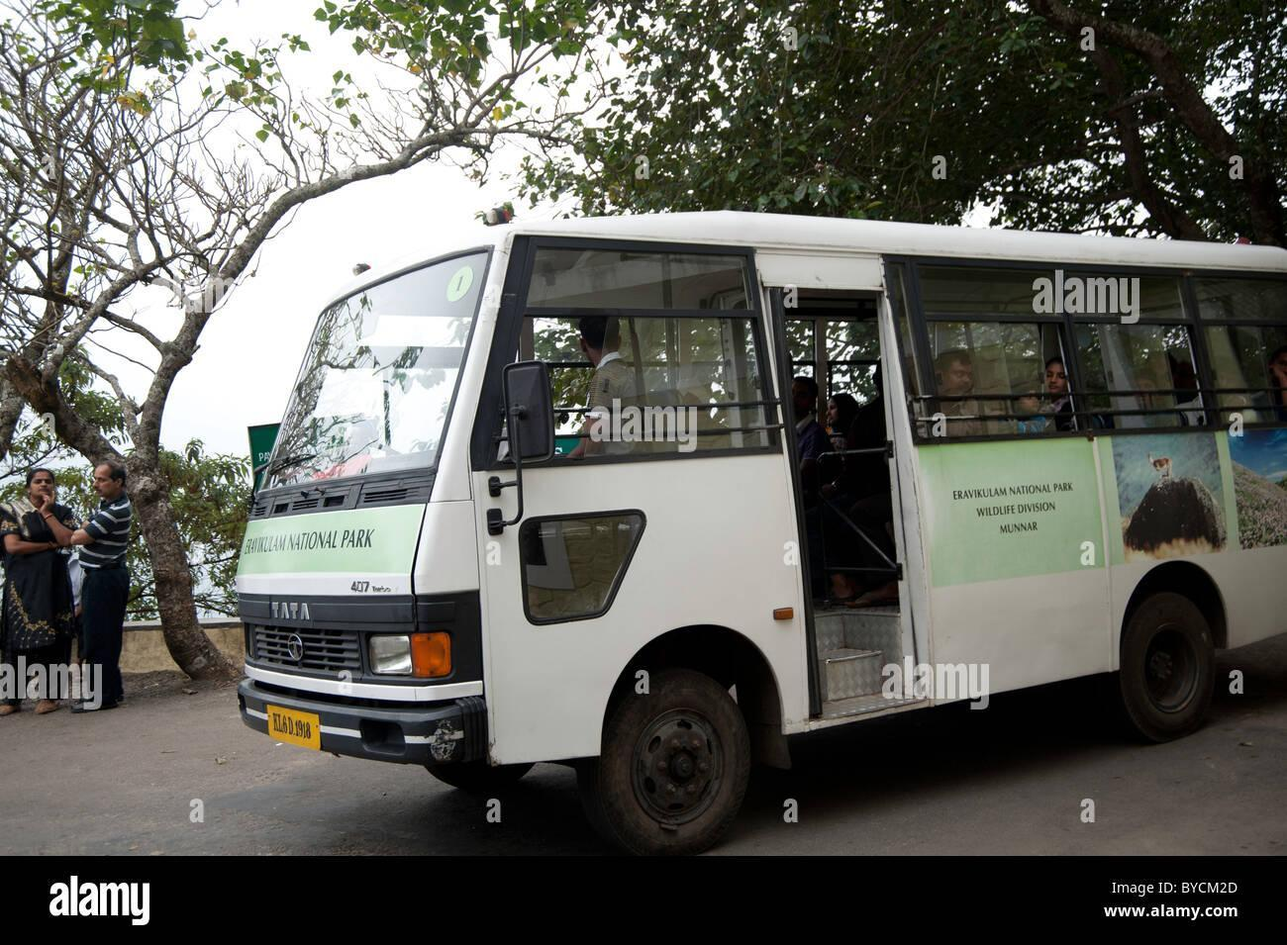Bus: (234, 222, 1286, 854)
